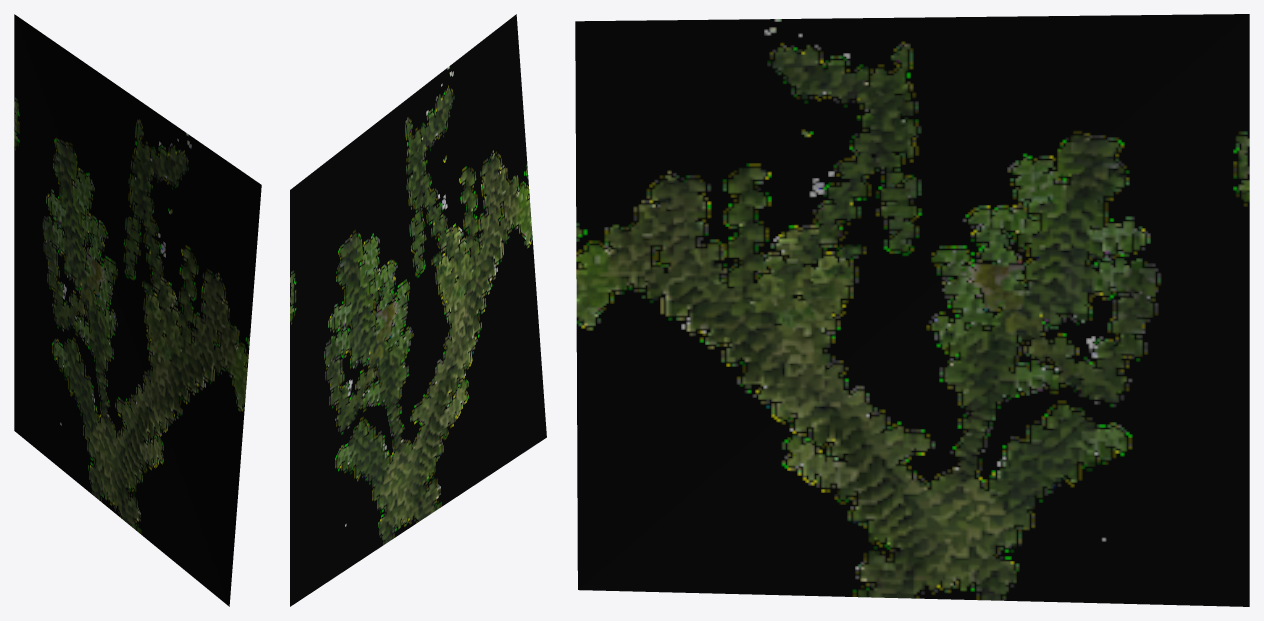
Rendered from Climbing_Ivy_1.gltf.
3 views of the same model, side by side, from view 1: azimuth 30°, elevation 25°; view 2: azimuth 150°, elevation 25°; view 3: azimuth 270°, elevation 25° (orthographic). The views are drawn at different scales.
Visible parts, largest first — view 1: Climbing_Ivy_1; view 2: Climbing_Ivy_1; view 3: Climbing_Ivy_1.
Boxes of the visible parts, <box> form: Climbing_Ivy_1: <box>14,14,261,606</box>; Climbing_Ivy_1: <box>290,14,546,606</box>; Climbing_Ivy_1: <box>575,14,1249,606</box>.
Bounding box in the file's own units: 0.4461 × 5.69 × 5.86.
1 material, 1 textured.
